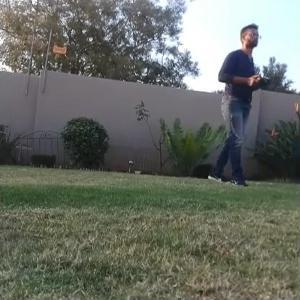follow: (203, 12, 273, 190)
